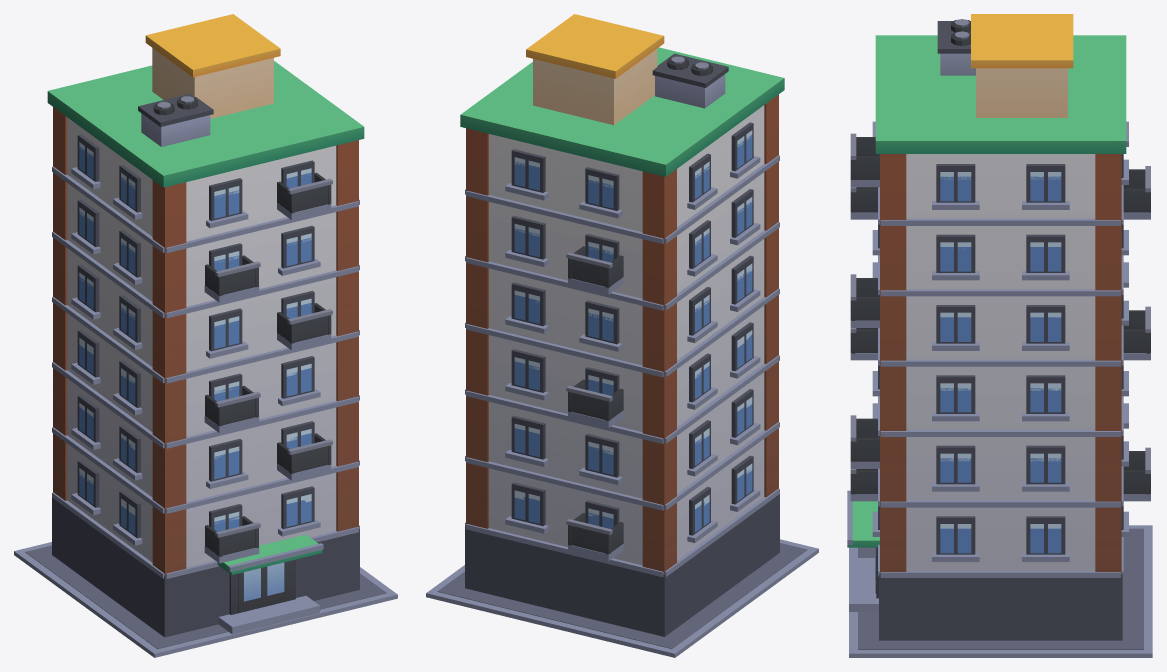
File: res_point_tower_1x1.glb
3 renders of one model, left to right at view 1: azimuth 30°, elevation 25°; view 2: azimuth 150°, elevation 25°; view 3: azimuth 270°, elevation 25°, orthographic. The views are drawn at different scales.
Visible parts, largest first — view 1: res_point_tower_1x1; view 2: res_point_tower_1x1; view 3: res_point_tower_1x1.
Boxes of the visible parts, box(x1,y1,x2,y2) form: res_point_tower_1x1: box(14, 14, 397, 657); res_point_tower_1x1: box(426, 14, 818, 657); res_point_tower_1x1: box(847, 14, 1152, 657).
Size of the model in its own units: 1.72 by 3.54 by 1.73.
1 material, 1 textured.
